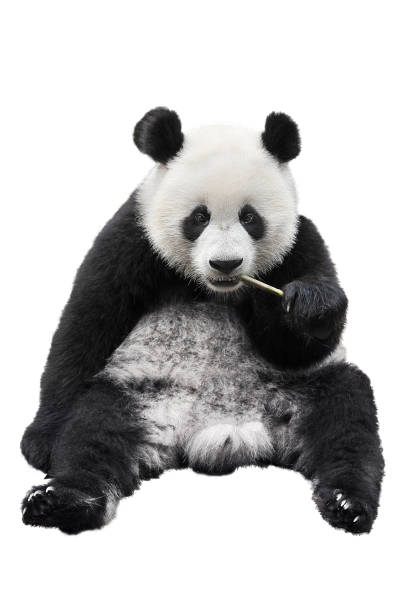panda: (115, 88, 341, 326)
